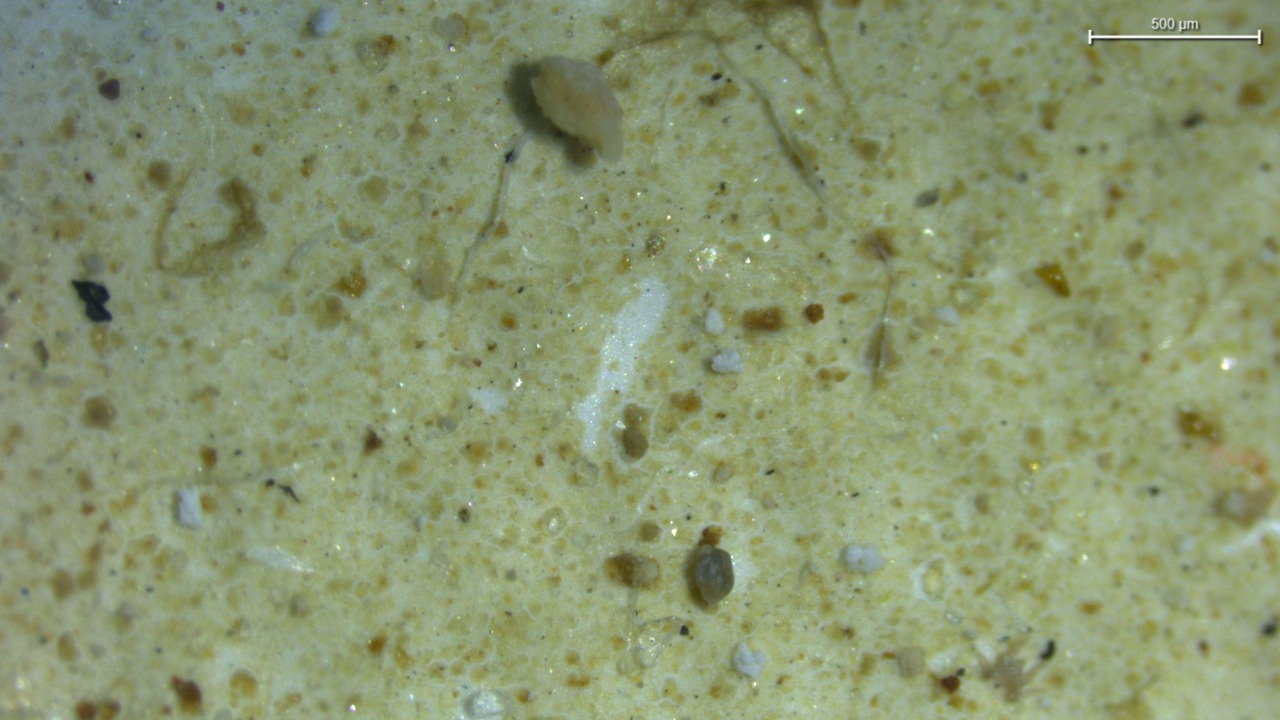microplastic_fragment: (531, 57, 623, 161), (687, 543, 735, 607), (732, 642, 766, 679), (842, 545, 885, 574), (176, 486, 202, 529), (711, 349, 743, 373)
